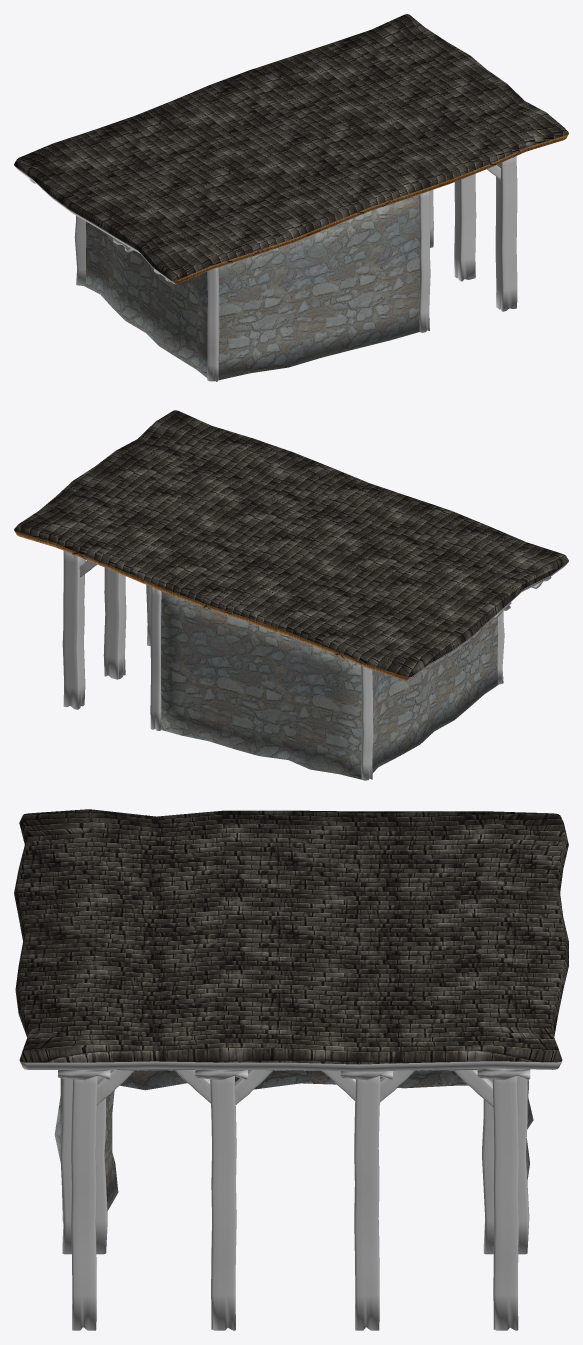
The model's file is cowShed.fbx.
3 renders of one model, top to bottom at view 1: azimuth 30°, elevation 25°; view 2: azimuth 150°, elevation 25°; view 3: azimuth 270°, elevation 25°, orthographic. The views are drawn at different scales.
Visible parts, largest first — view 1: Cube.001, Cube, plank, plank.004, plank.002, plank.003, plank.011; view 2: Cube.001, Cube, plank.006, plank.005, plank.007, plank.011, plank.003; view 3: Cube.001, plank, plank.006, plank.005, plank.004, Cube, plank.007, plank.002, plank.016.
Boxes of the visible parts, x1=… form: Cube.001: x1=14, y1=14, x2=568, y2=284; Cube: x1=84, y1=194, x2=419, y2=381; plank: x1=495, y1=156, x2=517, y2=311; plank.004: x1=454, y1=174, x2=476, y2=281; plank.002: x1=419, y1=191, x2=430, y2=332; plank.003: x1=207, y1=267, x2=219, y2=381; plank.011: x1=74, y1=215, x2=86, y2=285; Cube.001: x1=14, y1=410, x2=568, y2=680; Cube: x1=161, y1=591, x2=498, y2=779; plank.006: x1=62, y1=551, x2=85, y2=709; plank.005: x1=103, y1=567, x2=126, y2=679; plank.007: x1=150, y1=587, x2=161, y2=730; plank.011: x1=361, y1=666, x2=373, y2=780; plank.003: x1=497, y1=611, x2=504, y2=684; Cube.001: x1=14, y1=809, x2=568, y2=1071; plank: x1=71, y1=1076, x2=97, y2=1330; plank.006: x1=492, y1=1076, x2=518, y2=1330; plank.005: x1=354, y1=1076, x2=380, y2=1330; plank.004: x1=210, y1=1076, x2=236, y2=1330; Cube: x1=54, y1=1070, x2=533, y2=1223; plank.007: x1=482, y1=1076, x2=529, y2=1254; plank.002: x1=60, y1=1076, x2=107, y2=1254; plank.016: x1=454, y1=1070, x2=493, y2=1106.
Size of the model in its own units: 1528 by 664 by 1074.
